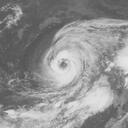cyclone: (39, 18, 122, 95)
